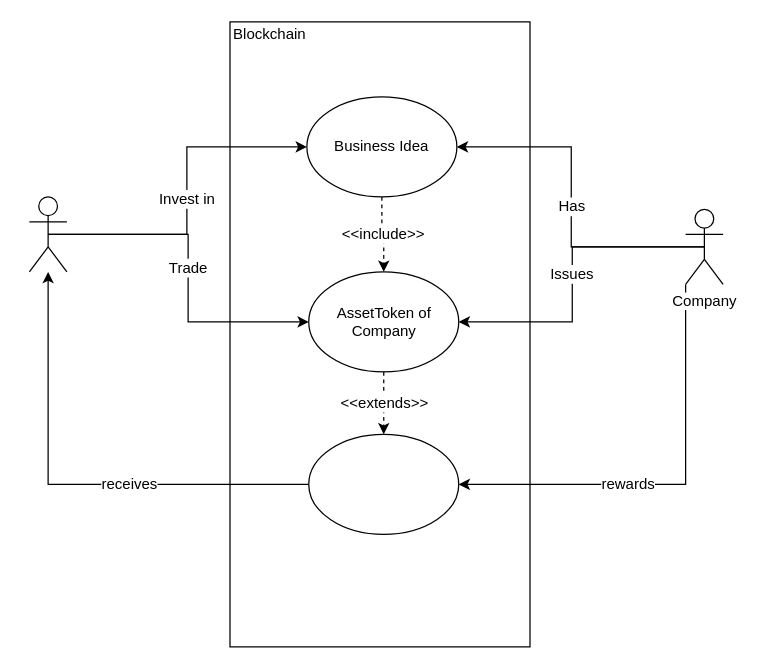
Some shapes in this 758 by 669 pixel diagram are drawn without their labels. Here are the shapes that lost their labels. From the top down, the centre of each, then its label:
At point (47, 234): "Investor".
At point (383, 483): "Dividends".
